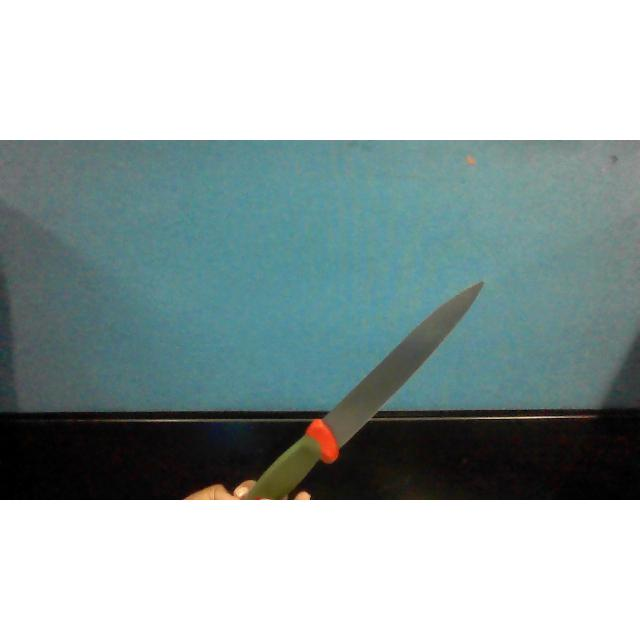Knife: (247, 282, 484, 500)
